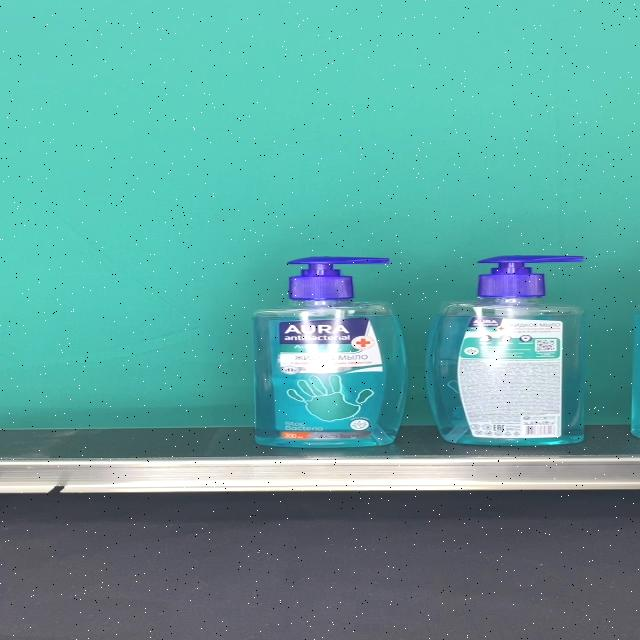Bottle: (426, 255, 586, 446), (252, 257, 406, 448)
Cap: (475, 256, 585, 298), (286, 257, 391, 300)
